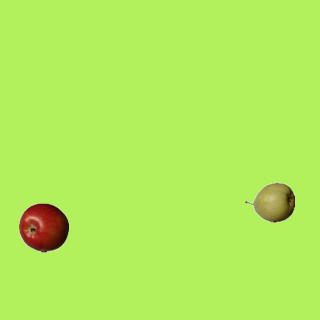Apple Braeburn: (18, 202, 68, 252)
Pear: (244, 177, 294, 227)
